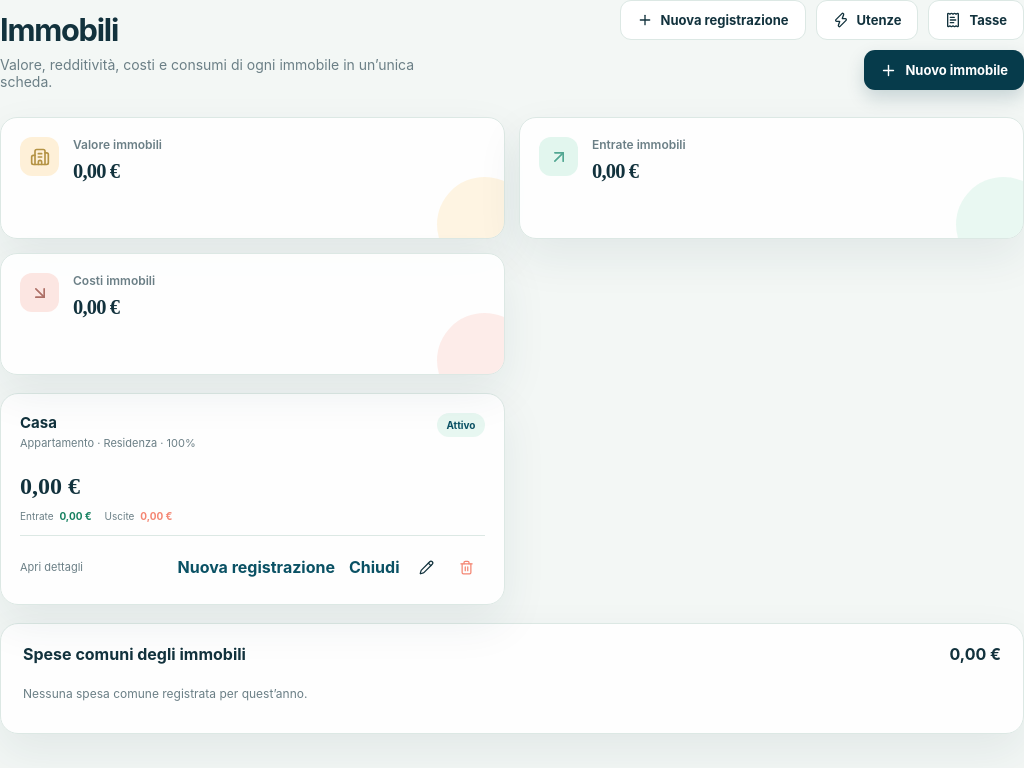
Test case: v0.8 review forms › keeps utility and tax controls interactive when opened from the properties view
Click the button "Utenze" at (867, 20), box [816,0,918,40]
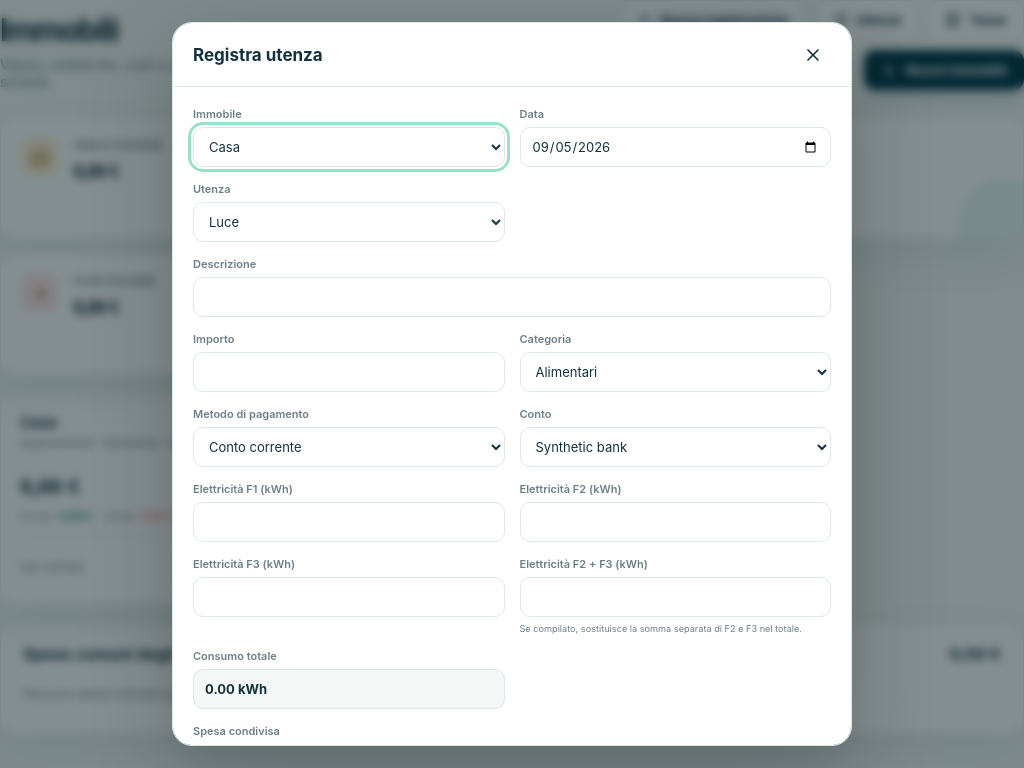
Check: the dropdown labelled "Utenza" is enabled
Check: the field labelled "Descrizione" is enabled, box [193,277,831,317]
Select "Gas" in the dropdown labelled "Utenza" at (349, 222), box [193,202,504,242]
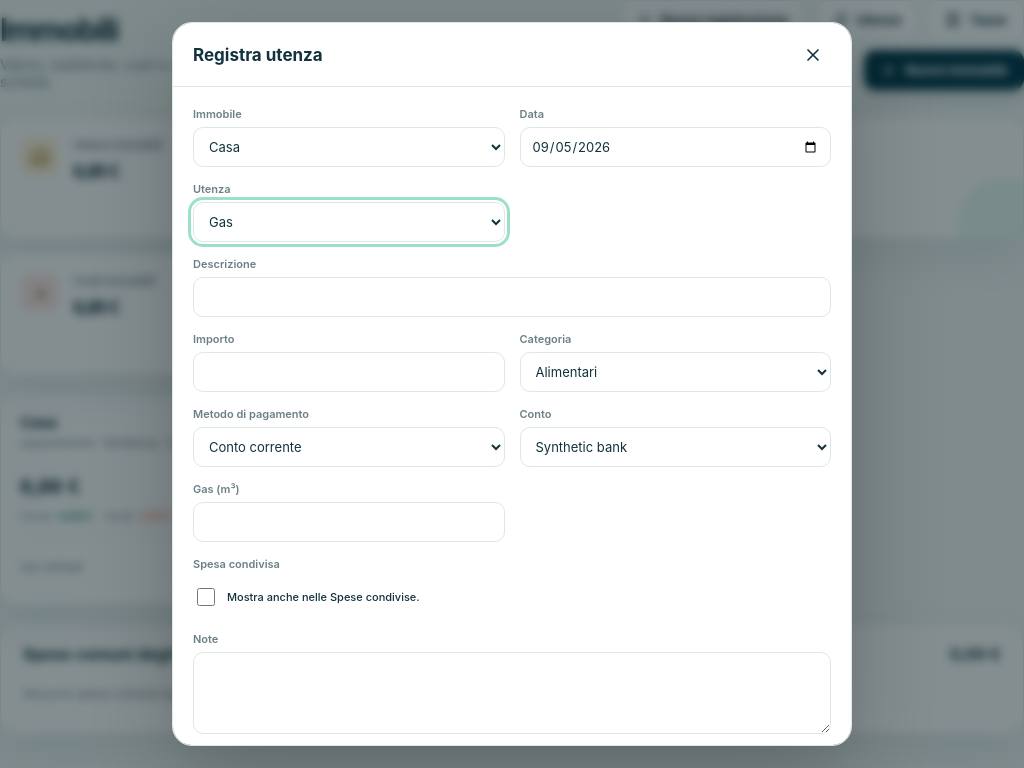
Type "Bolletta gas modificabile" into the field labelled "Descrizione" at (512, 297), box [193,277,831,317]
(page scrolled)
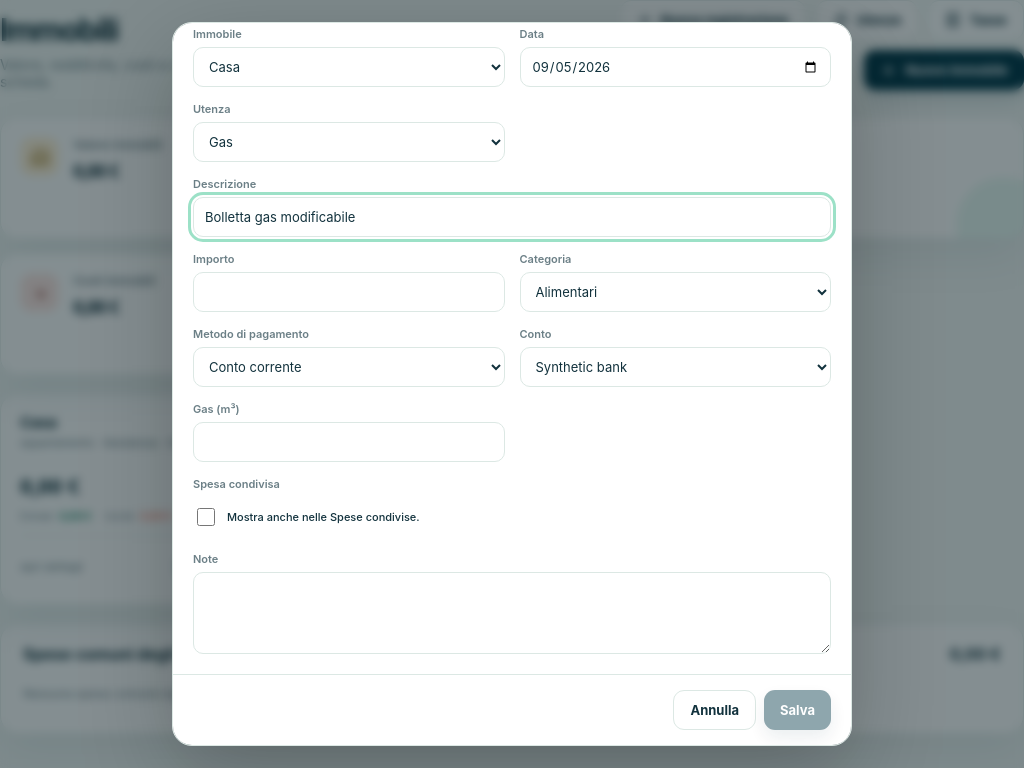
Click the button "Annulla" at (715, 710), box [674,690,756,730]
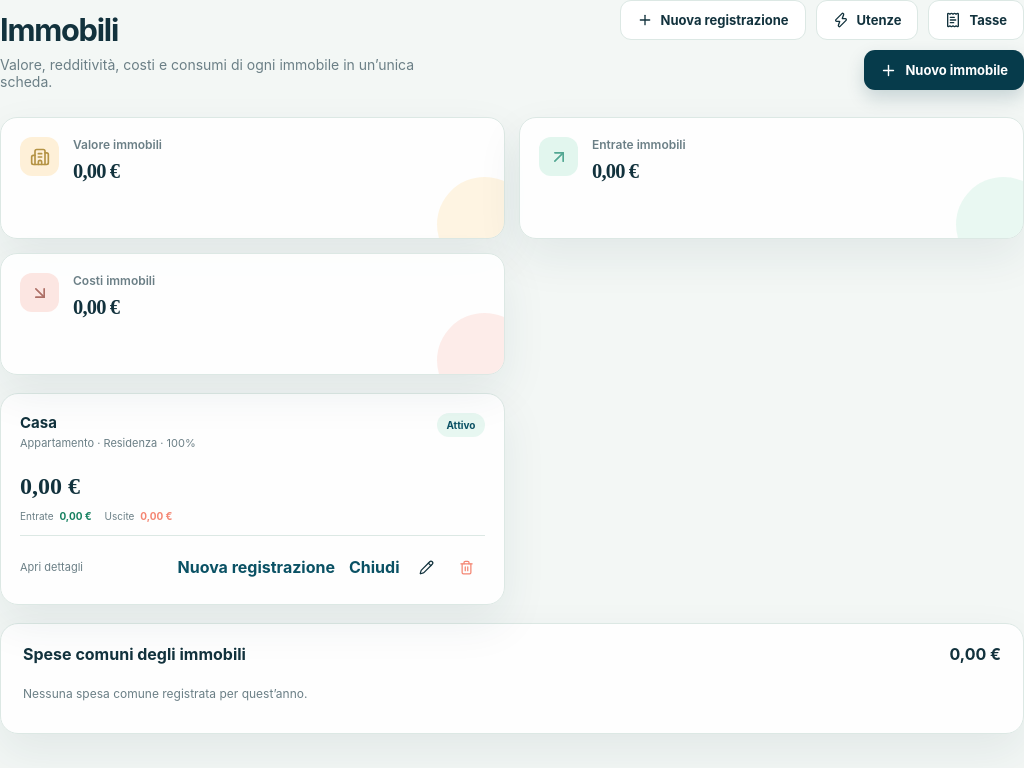
Click the button "Tasse" at (976, 20), box [928,0,1023,40]
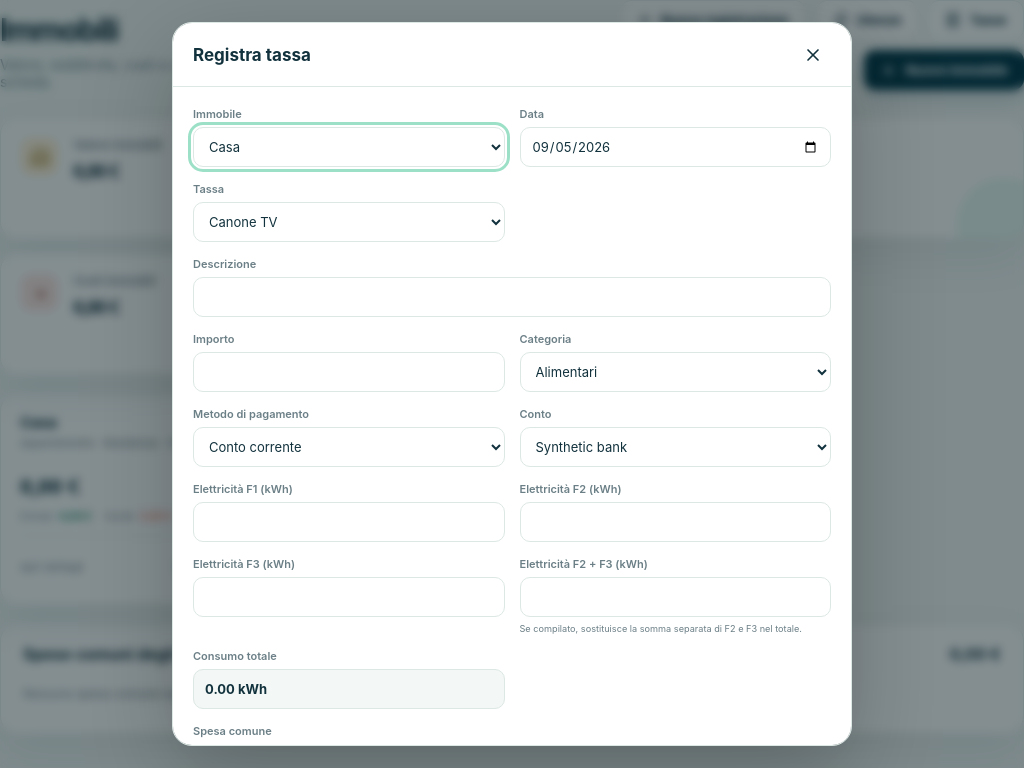
Check: the dropdown labelled "Tassa" is enabled
Select "IMU" in the dropdown labelled "Tassa" at (349, 222), box [193,202,504,242]
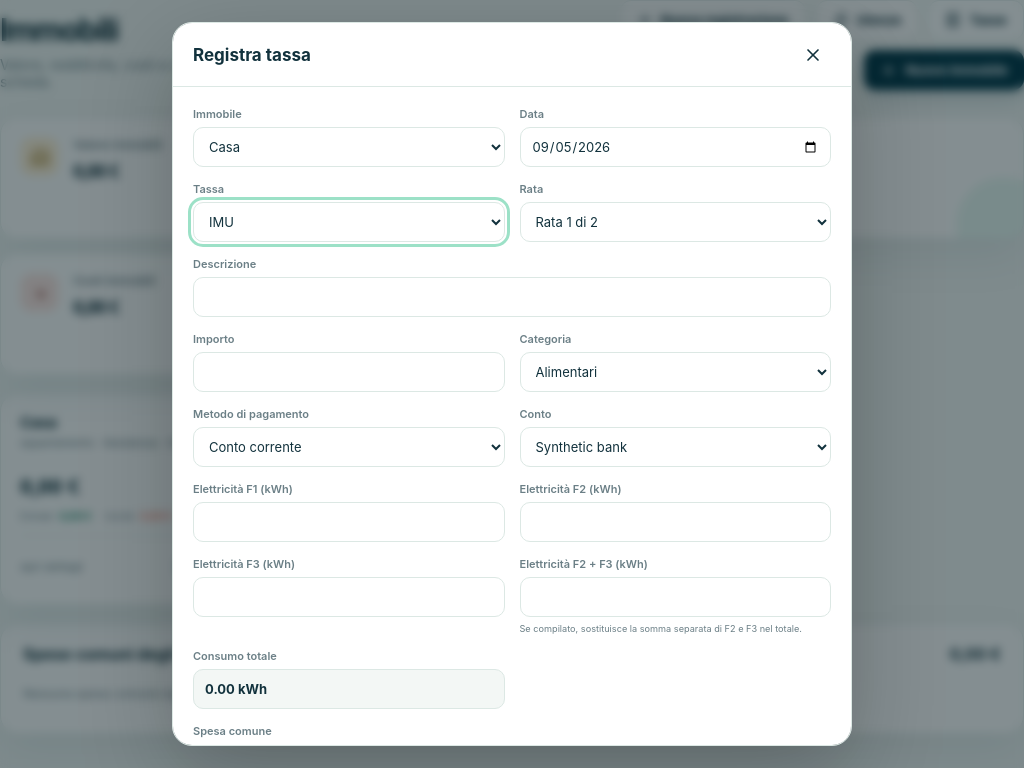
Check: the dropdown labelled "Rata" is enabled, box [520,202,831,242]
